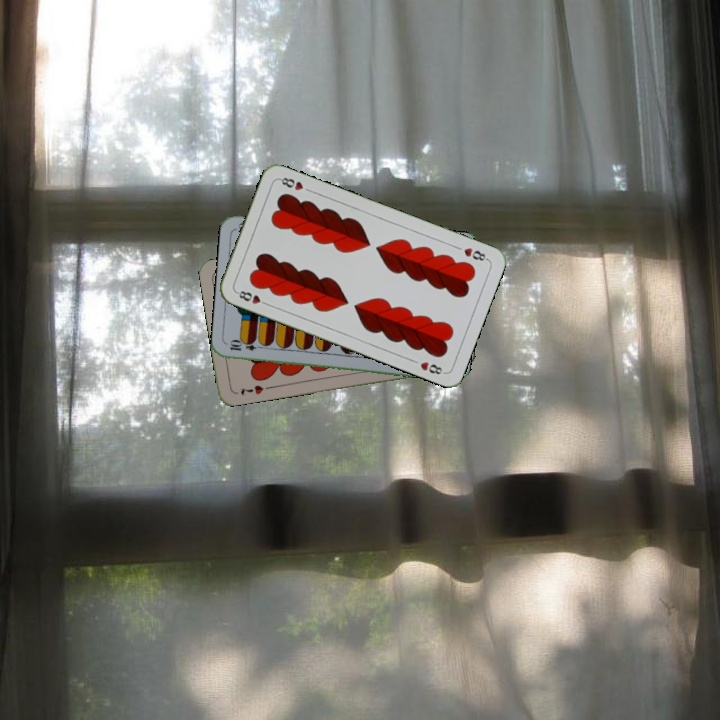E10: (226, 338, 266, 353)
H7: (236, 381, 266, 398)
H8: (232, 286, 271, 308), (459, 243, 491, 264)
